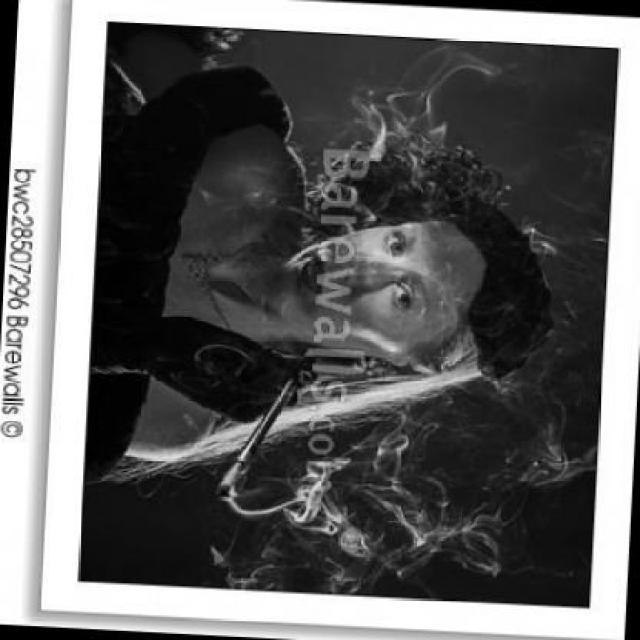smoke: (210, 455, 246, 500)
